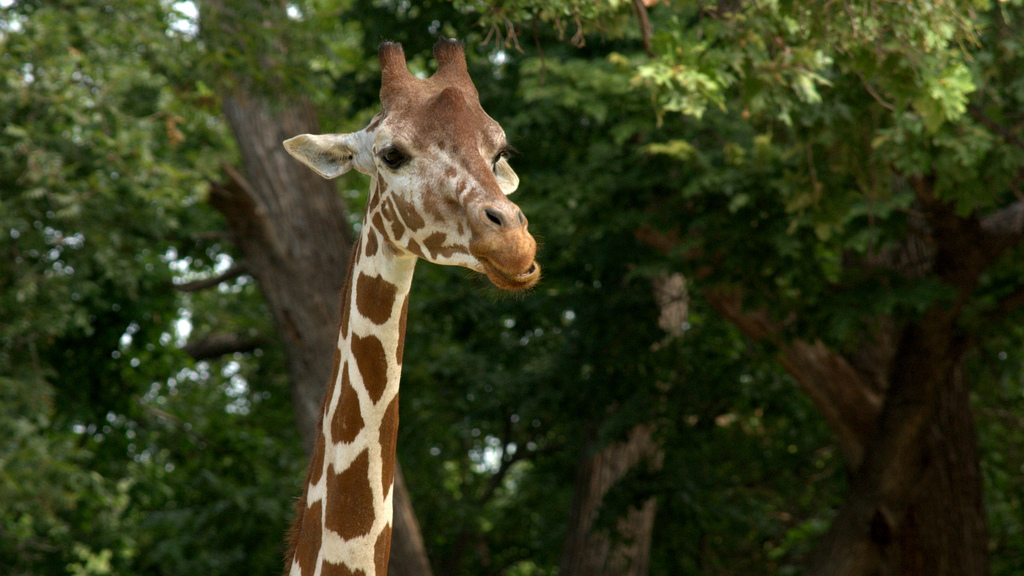giraffe: (264, 50, 550, 516)
